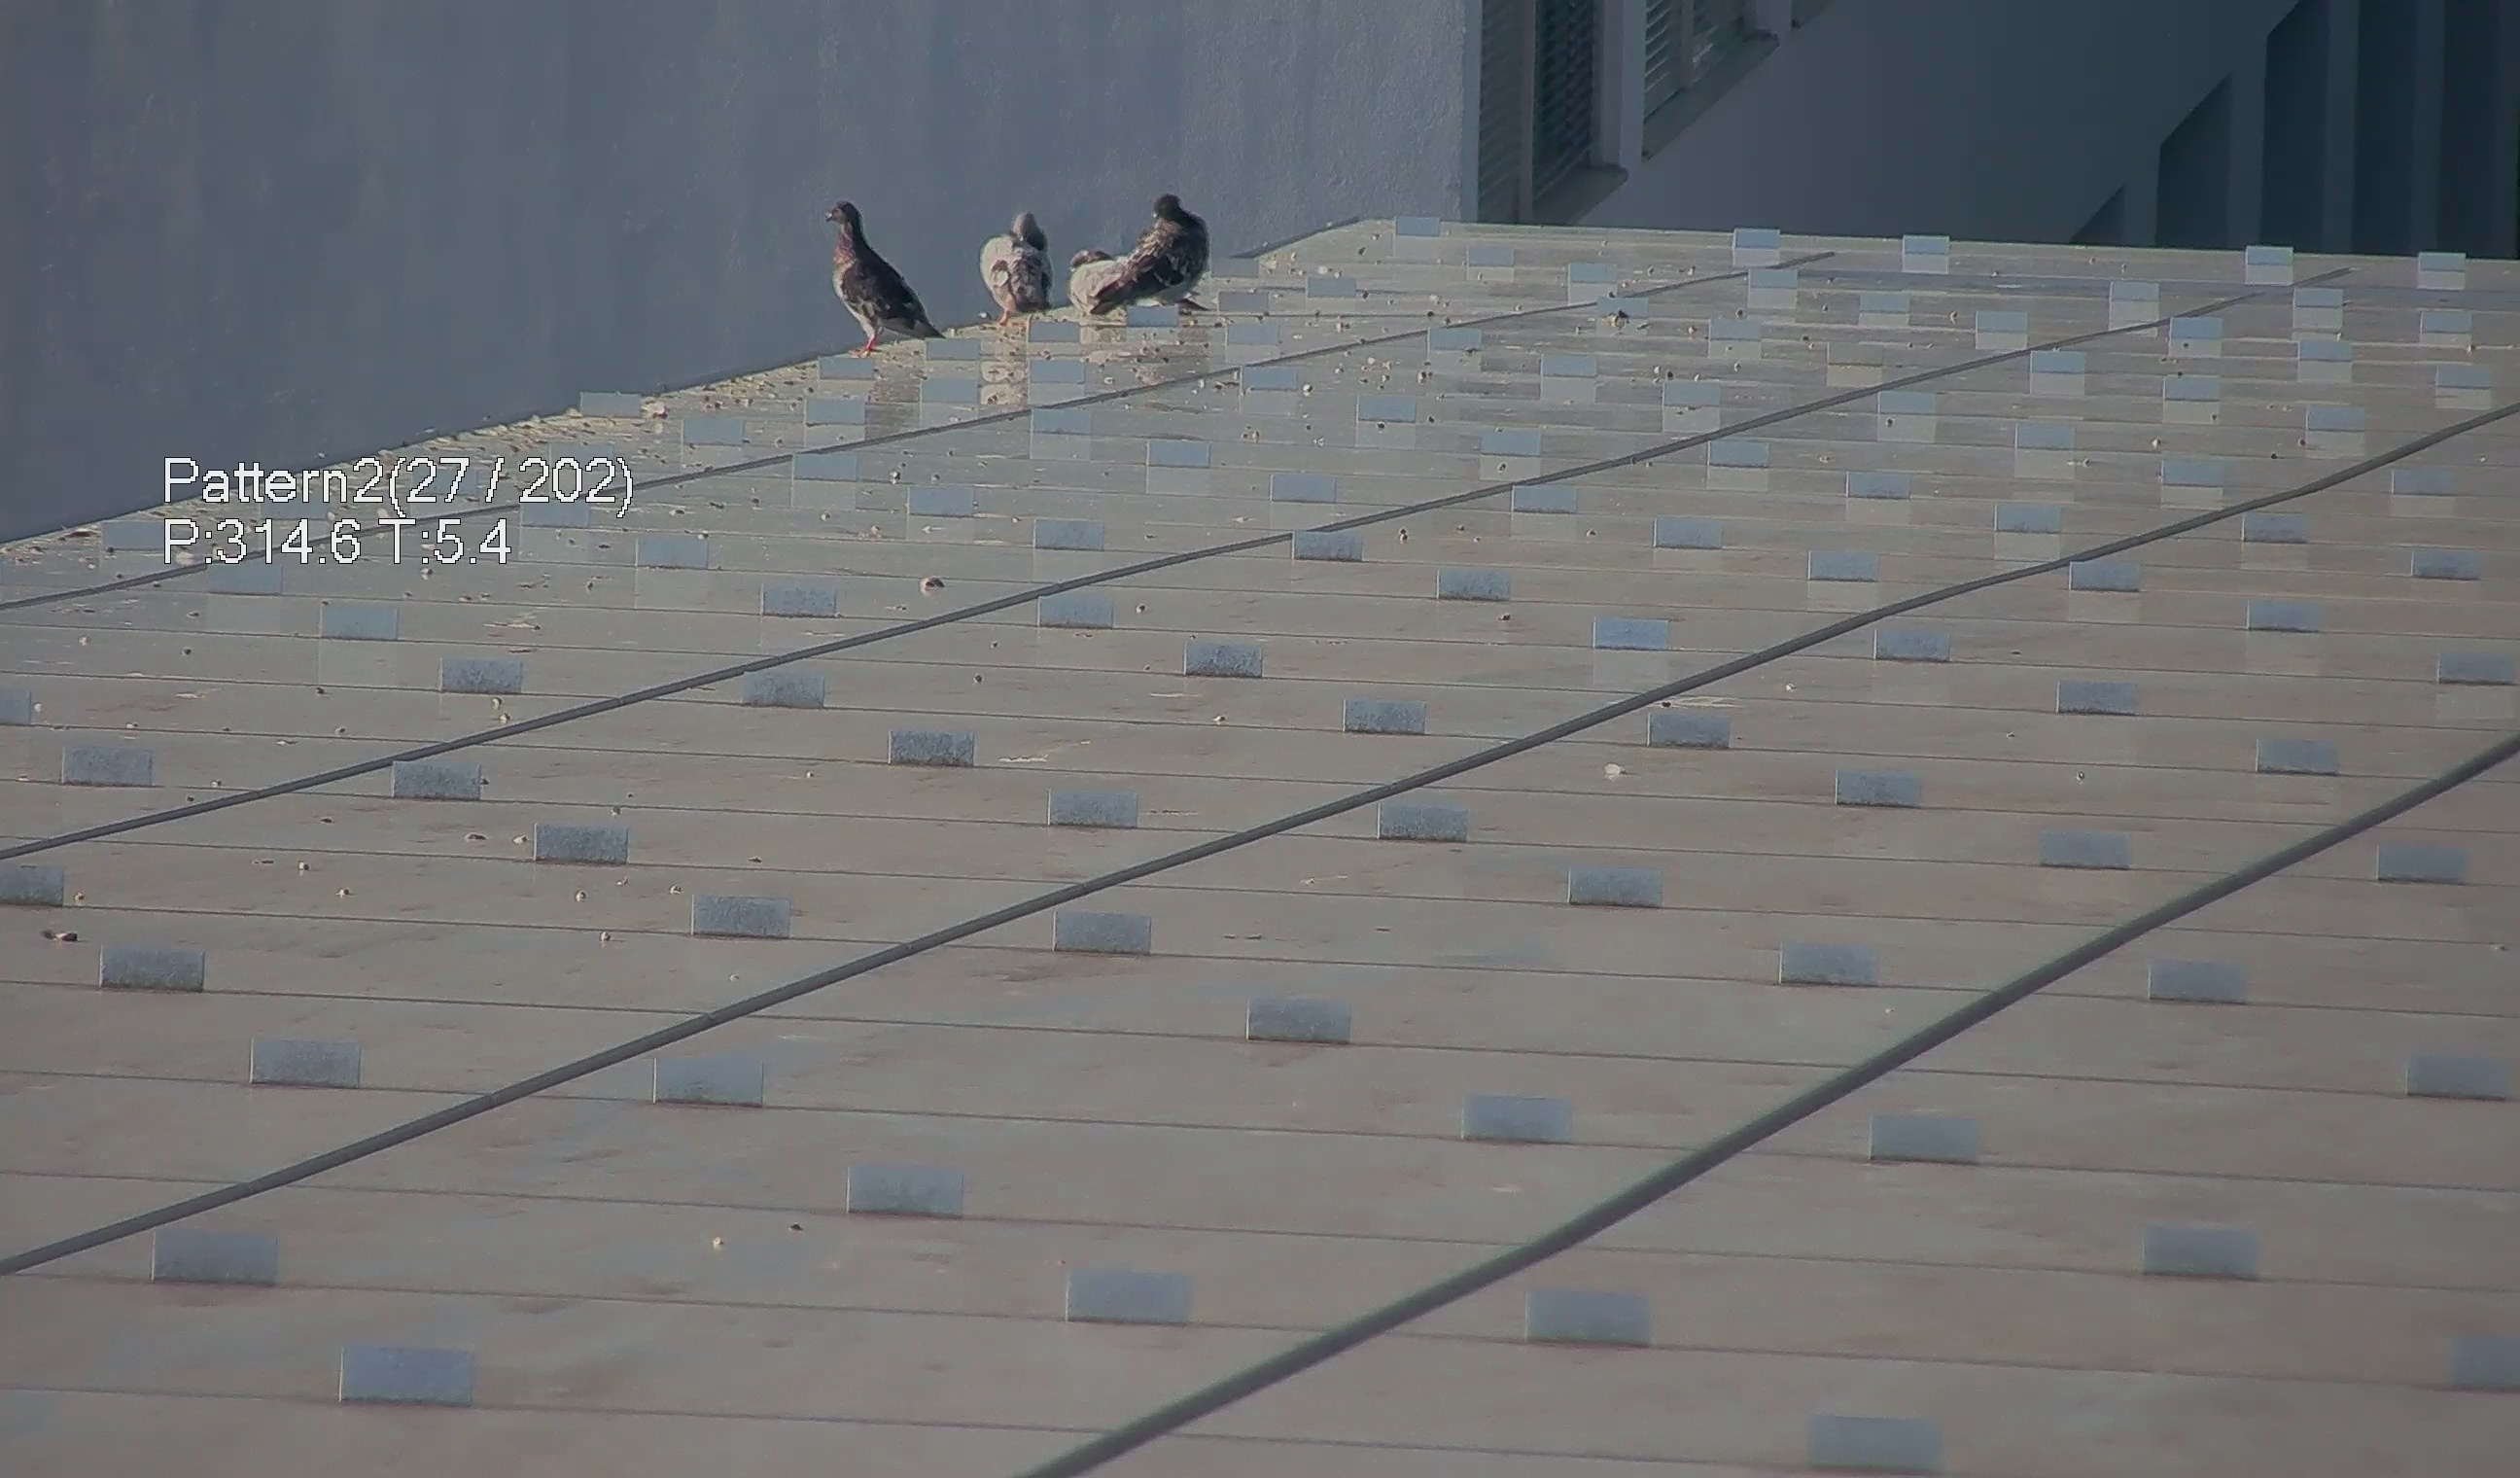Pigeon: (798, 190, 948, 348), (1067, 181, 1217, 327), (967, 199, 1052, 329), (1062, 245, 1124, 306)
